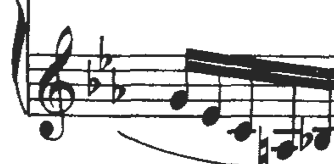flat: (107, 63, 129, 110), (83, 59, 104, 105), (95, 34, 116, 77)
treble_clef: (34, 21, 85, 151)
